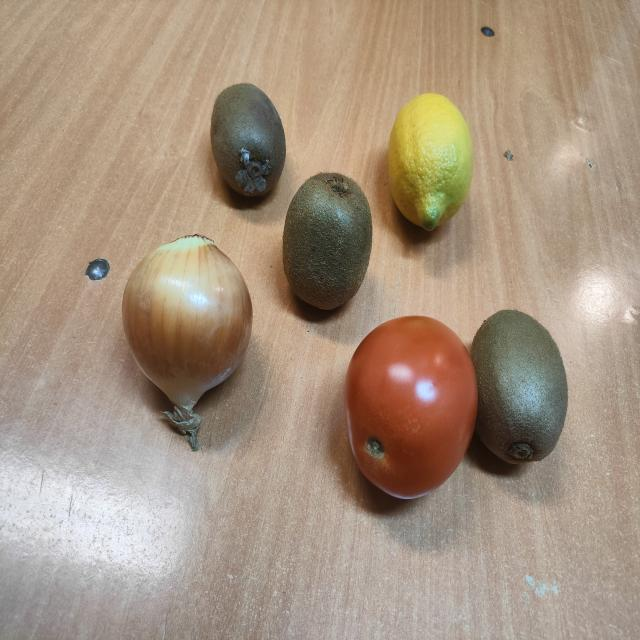kiwi: (471, 310, 568, 463), (282, 173, 372, 310), (210, 83, 286, 197)
lemon: (389, 93, 474, 230)
tomato: (344, 317, 478, 498)
